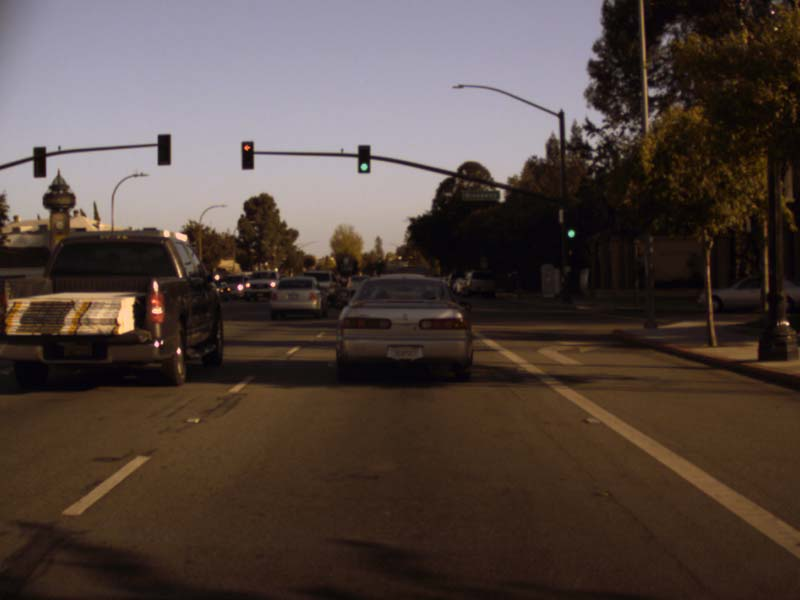Green: (359, 147, 369, 172), (565, 215, 575, 238)
Red: (241, 141, 251, 166)
